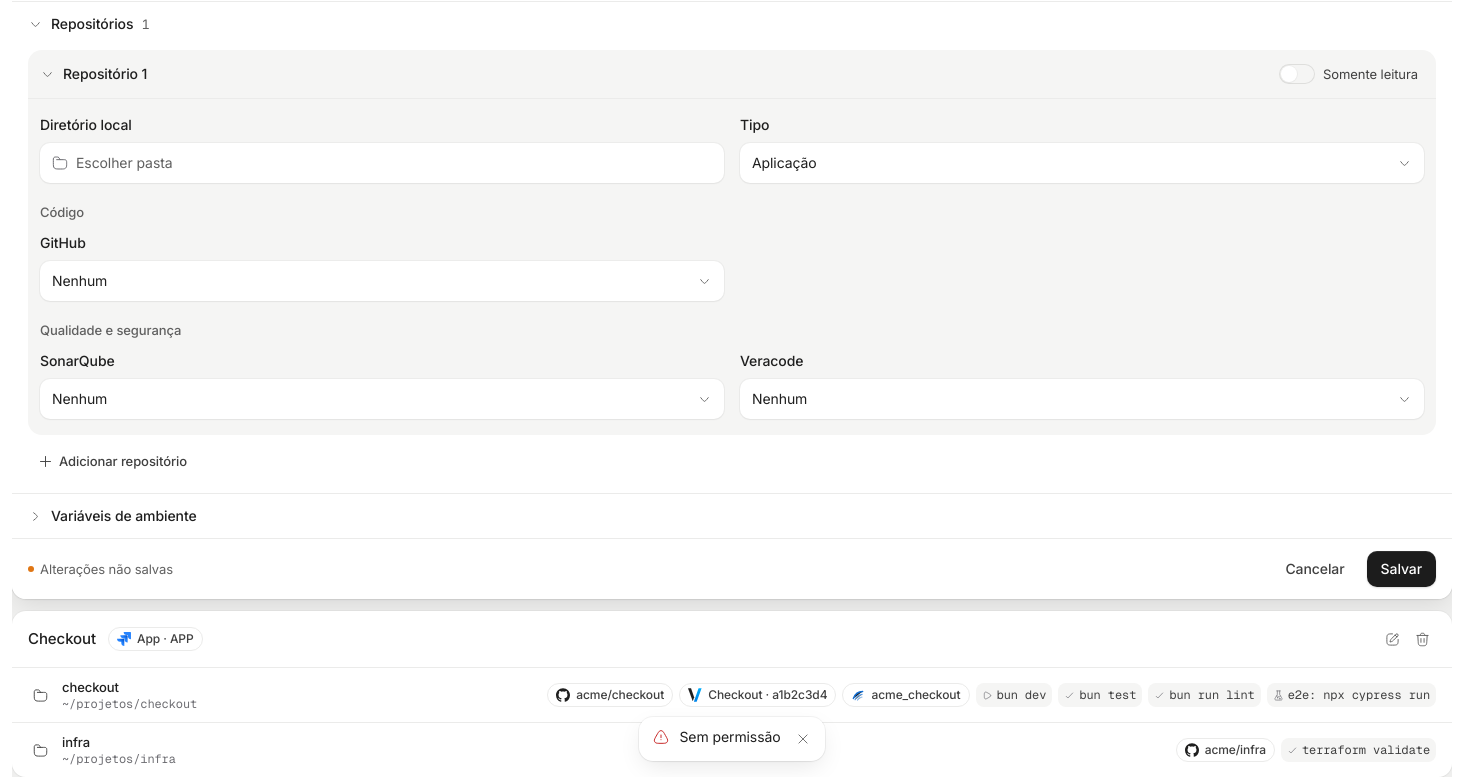
Test: edição no lugar › criar e remover também são otimistas e desfazem quando falham
Earlier steps of the test are not shown.
(page scrolled)
Expected: the message reads "Sem permissão", [679,728,781,745]
Click the button named "Remover Checkout" at (1422, 639), box [1408,625,1436,653]
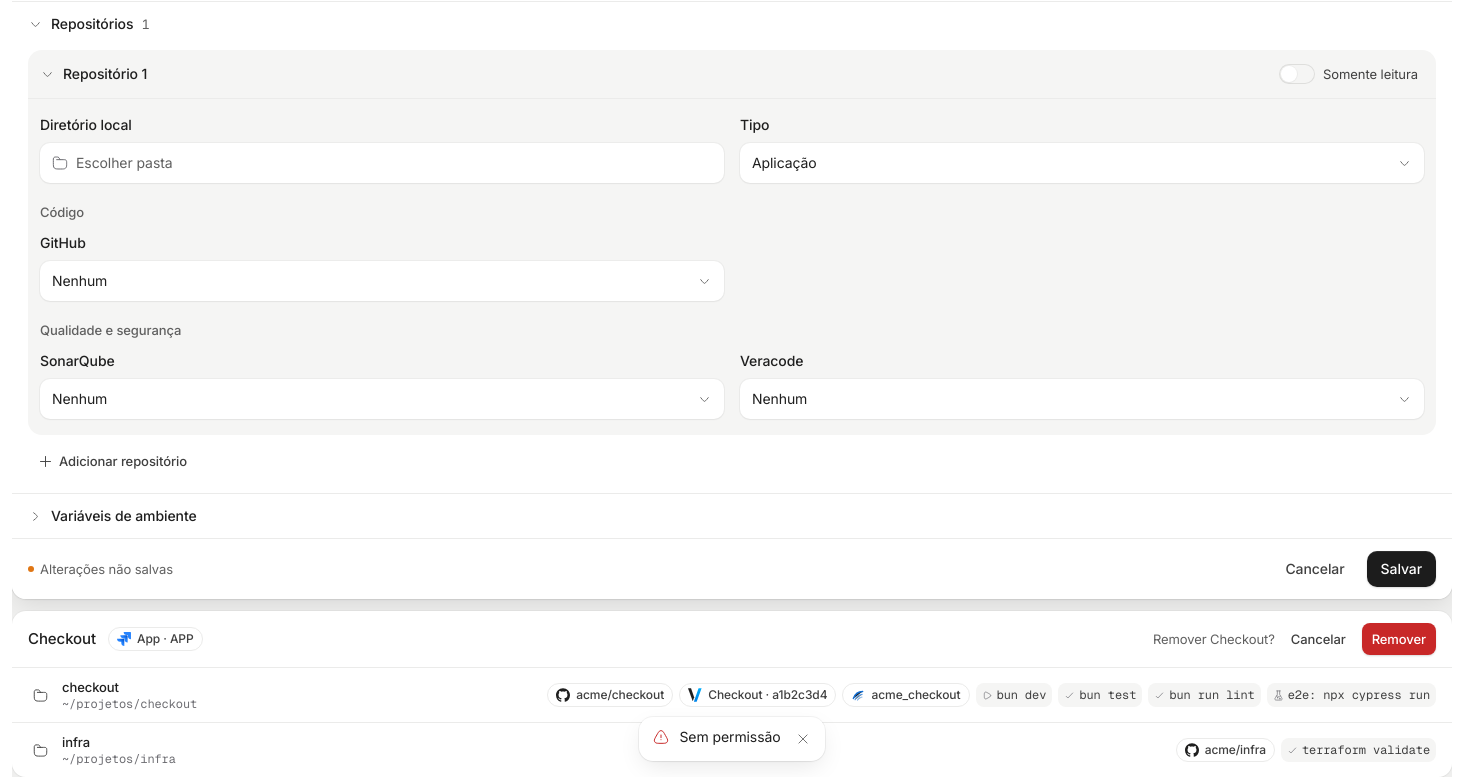
Click the button "Remover" at (1399, 639), box [1362,623,1436,655]
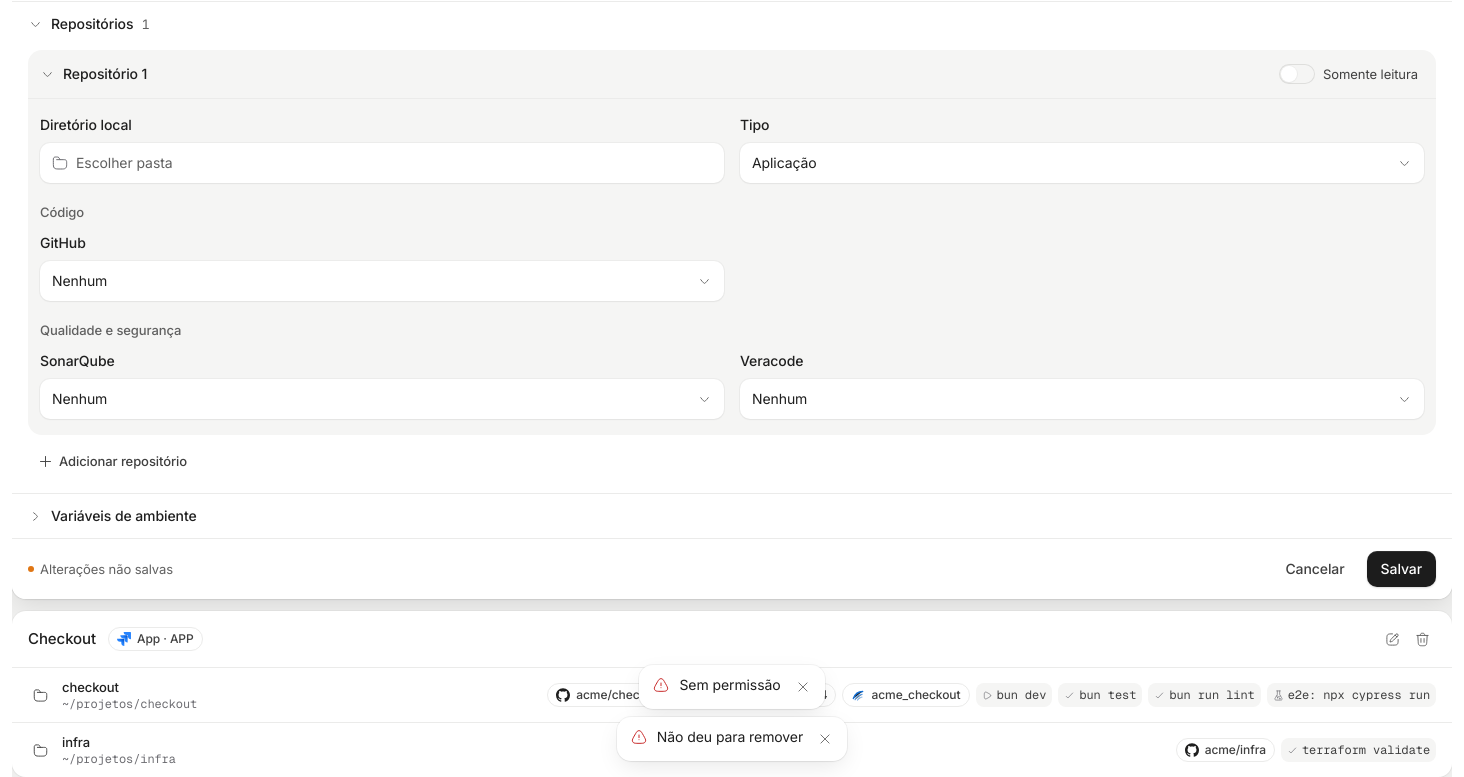
Expected: the text "Não deu para remover" is shown, [657,727,803,747]
